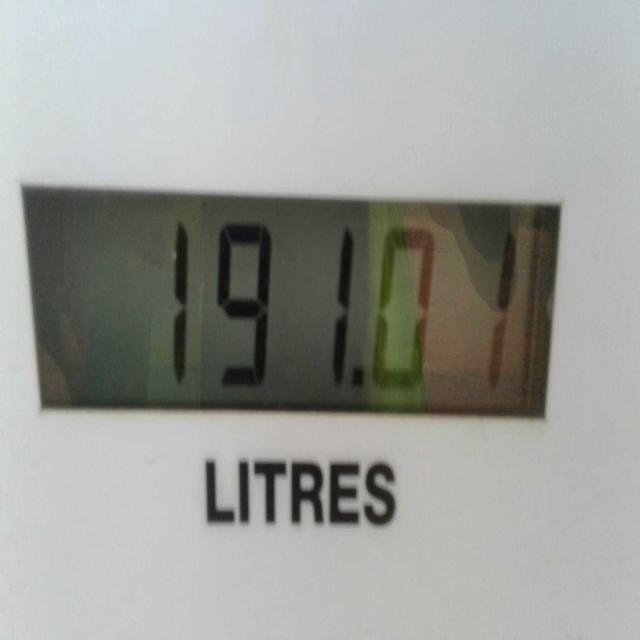.: (351, 363, 366, 391)
0: (374, 226, 434, 386)
1: (487, 235, 518, 393), (170, 204, 197, 381), (331, 227, 357, 383)
9: (216, 220, 274, 394)
